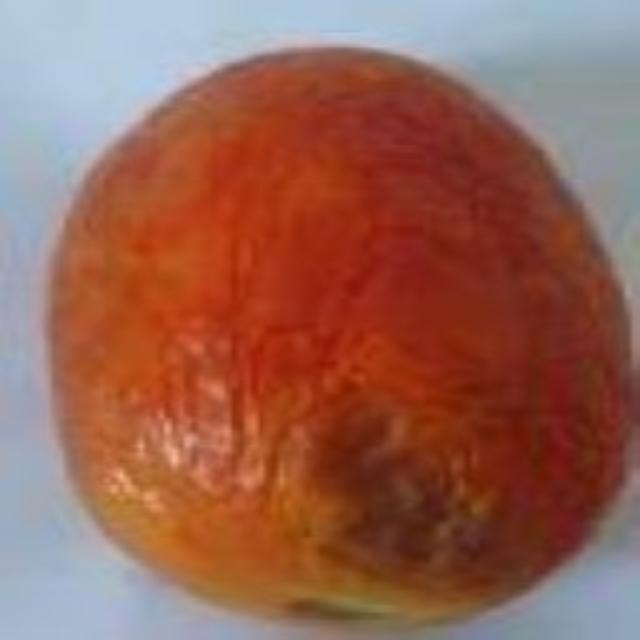defect: (36, 39, 633, 640)
